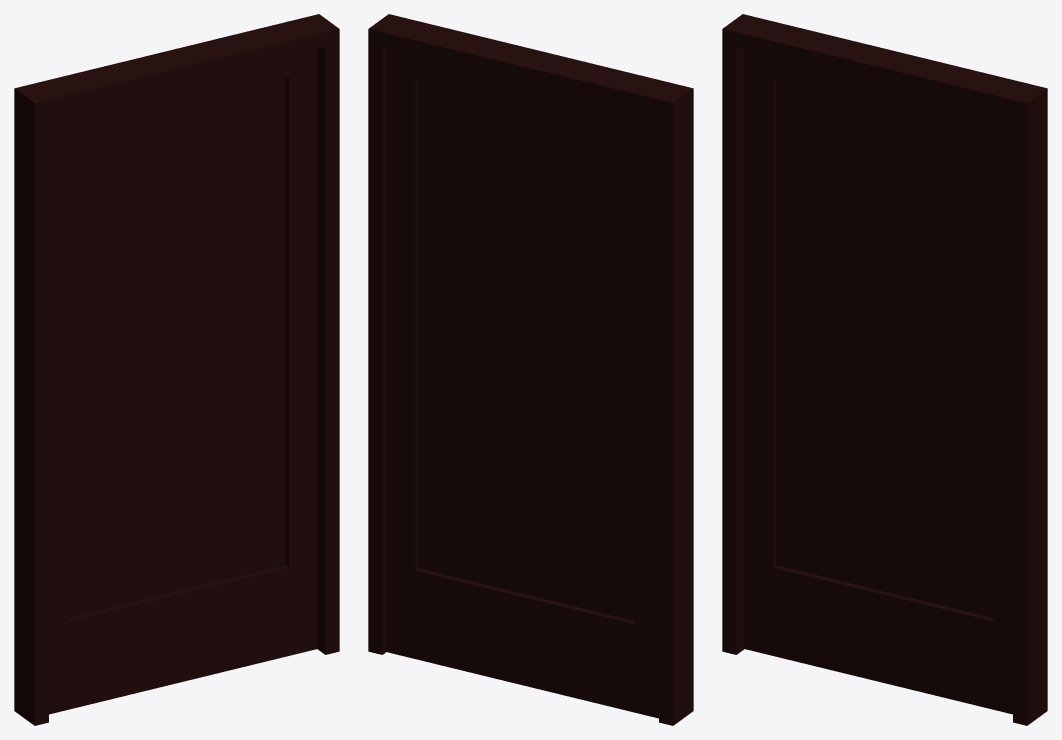
The model's file is Door.FBX.
3 views of the same model, side by side, from view 1: azimuth 30°, elevation 25°; view 2: azimuth 150°, elevation 25°; view 3: azimuth 330°, elevation 25° (orthographic).
Visible parts, largest first — view 1: PivotDoor004; view 2: PivotDoor004; view 3: PivotDoor004.
Boxes of the visible parts, x1,y1,x2,y2 form: PivotDoor004: (14,14,339,725); PivotDoor004: (368,14,693,725); PivotDoor004: (722,14,1047,725).
Bounding box in the file's own units: 43.37 × 84.68 × 5.02.
